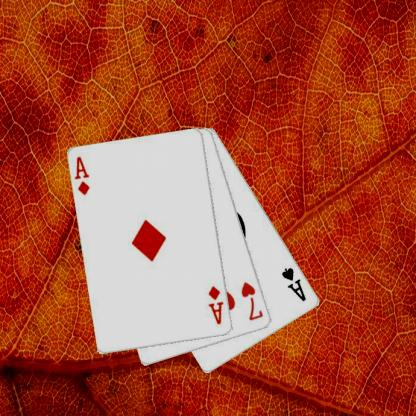7H: (238, 279, 264, 323)
AD: (206, 284, 225, 326), (73, 154, 91, 196)
AS: (279, 264, 308, 302)
